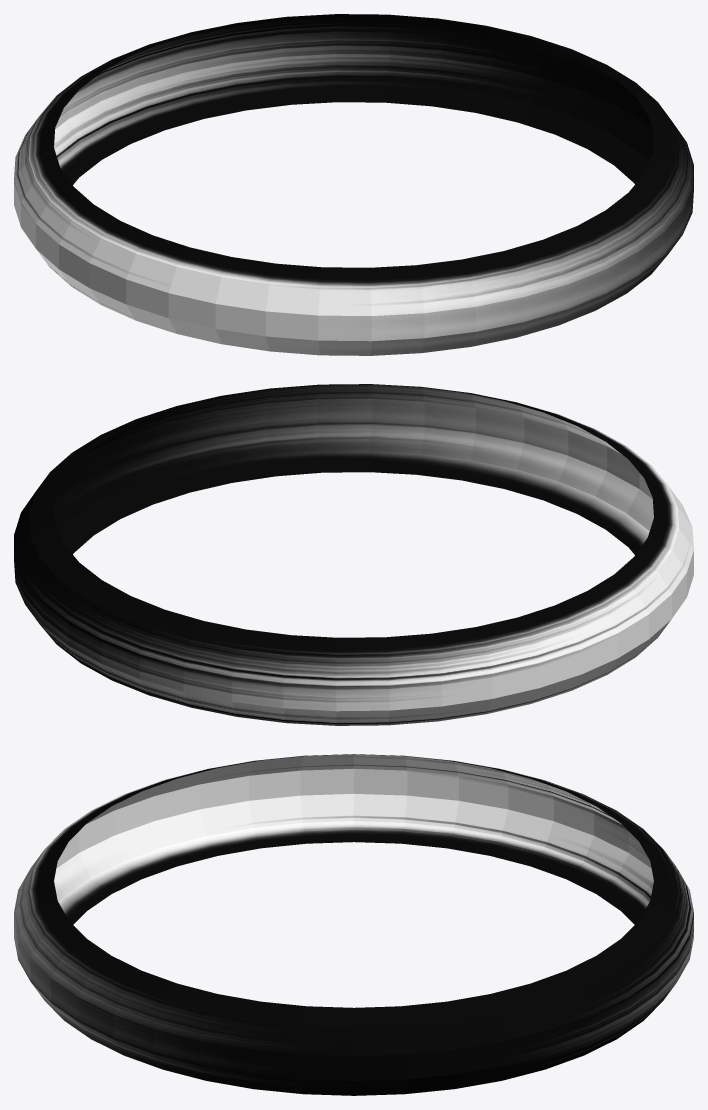
File: aaaRasenganRing.fbx
3 renders of one model, top to bottom at view 1: azimuth 30°, elevation 25°; view 2: azimuth 150°, elevation 25°; view 3: azimuth 270°, elevation 25°, orthographic.
Visible parts, largest first — view 1: SM_EFF_Ring_14.mo; view 2: SM_EFF_Ring_14.mo; view 3: SM_EFF_Ring_14.mo.
Part boxes in pixels (box(x1,y1,x2,y2)): SM_EFF_Ring_14.mo: box(14, 14, 693, 355); SM_EFF_Ring_14.mo: box(14, 384, 693, 725); SM_EFF_Ring_14.mo: box(14, 754, 693, 1095).
Size of the model in its own units: 94.45 by 13.46 by 94.45.
